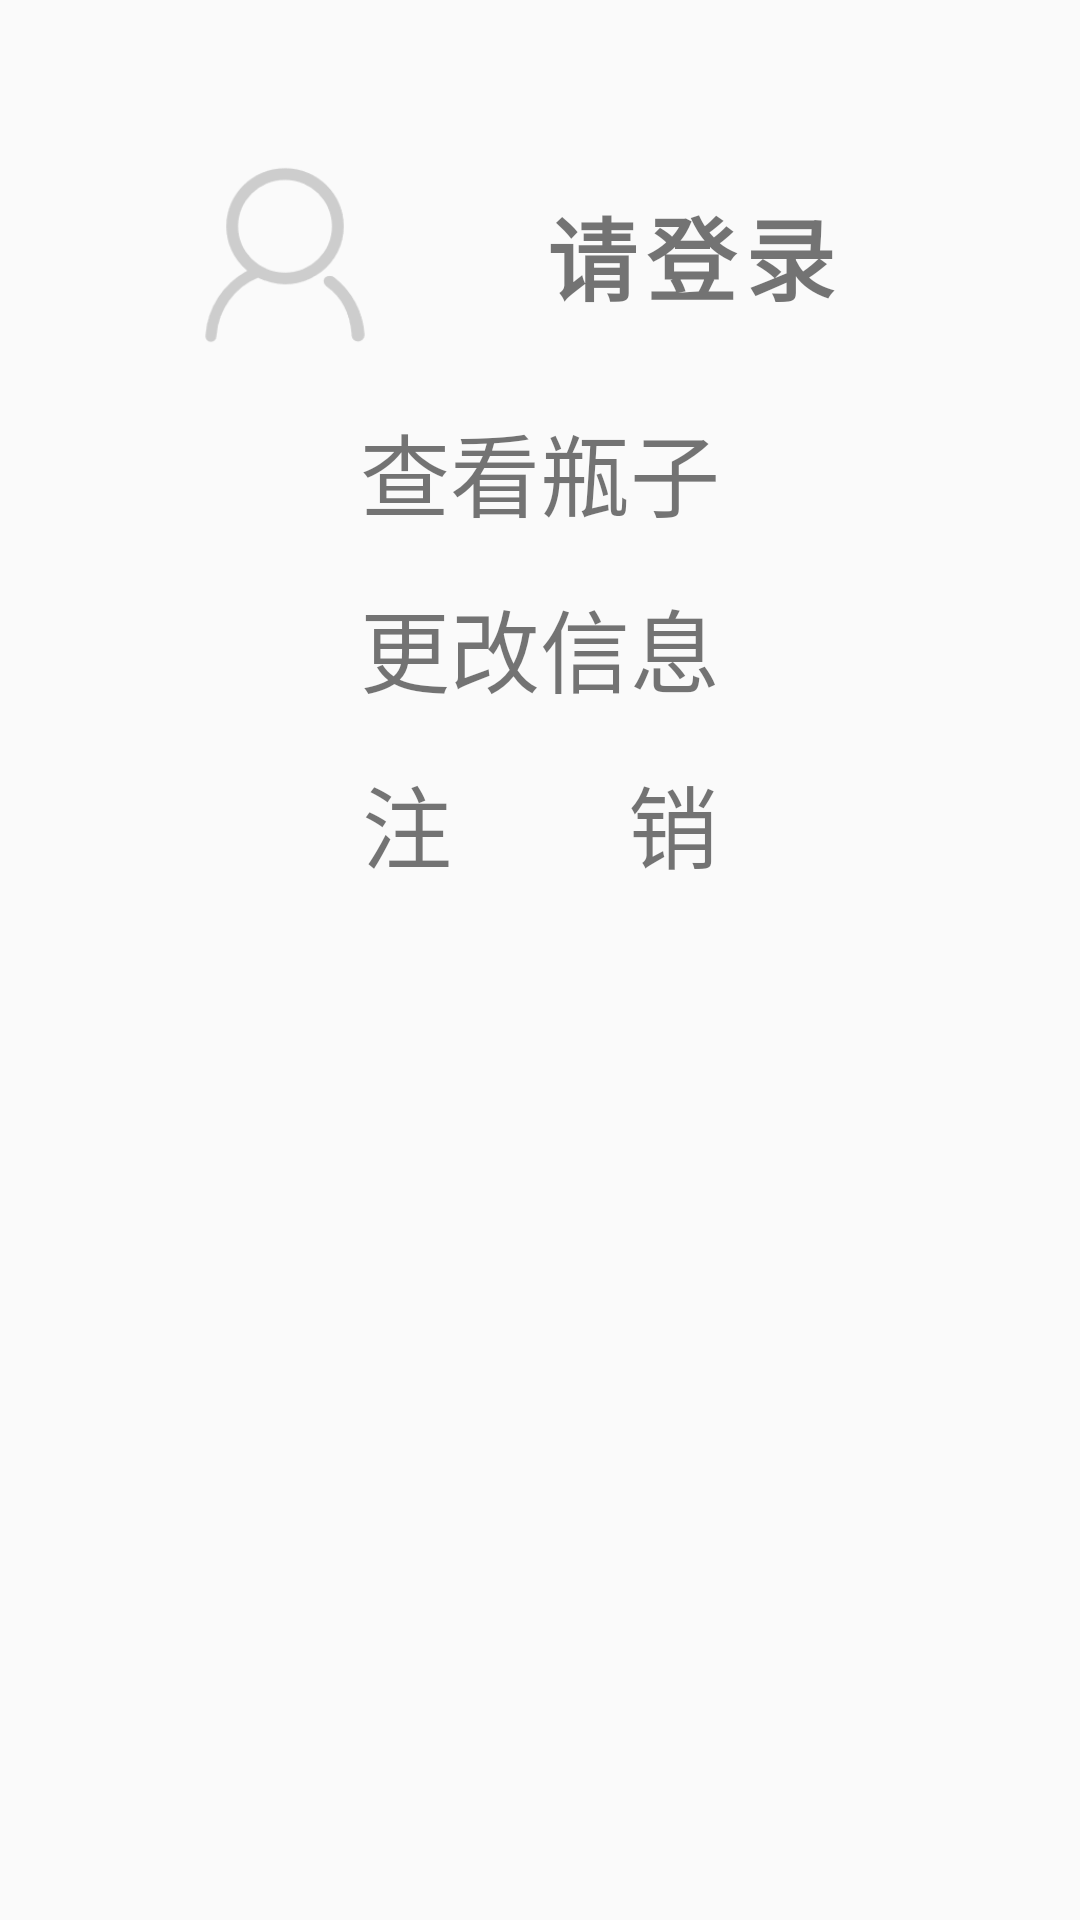

Screen size 1080px×1920px. Icon name, then its box in pixels as (x1, y1, x2, y2):
bottommenu wode: (205, 168, 365, 342)
